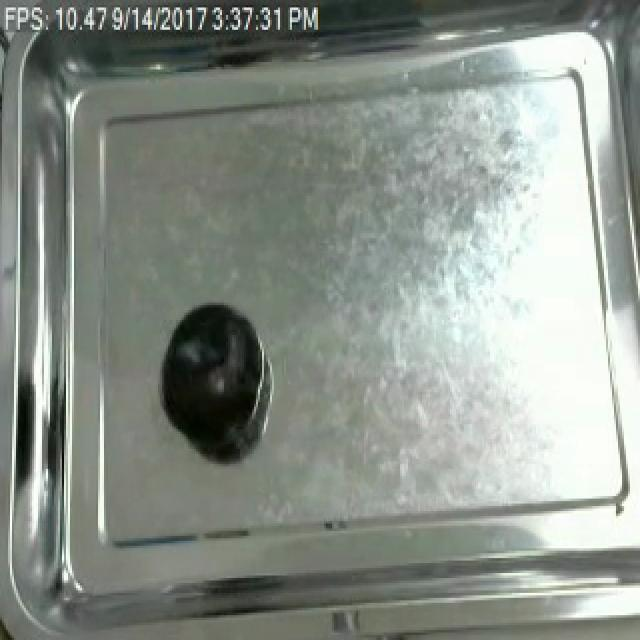Fruit: (156, 295, 262, 452)
